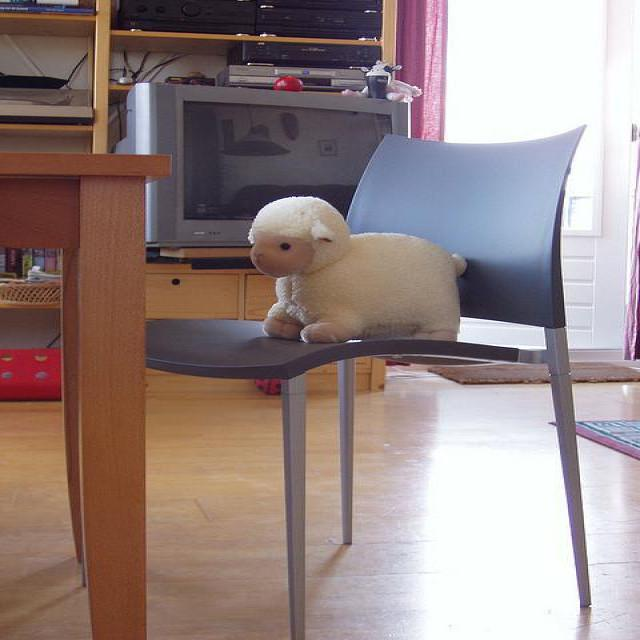Sheep: (249, 195, 471, 345)
